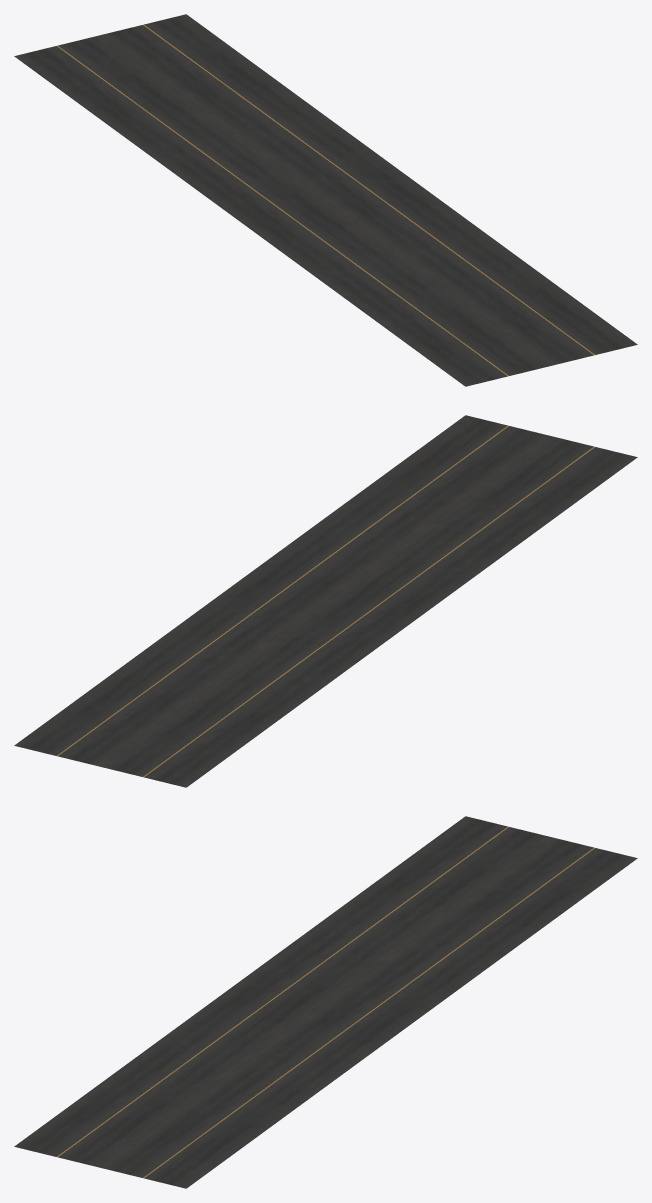
The model's file is Road.FBX.
3 renders of one model, top to bottom at view 1: azimuth 30°, elevation 25°; view 2: azimuth 150°, elevation 25°; view 3: azimuth 330°, elevation 25°, orthographic.
Parts seen in each view (by area): view 1: Road; view 2: Road; view 3: Road.
Part boxes in pixels (<box>): Road: <box>14,14,637,386</box>; Road: <box>14,415,637,787</box>; Road: <box>14,816,637,1188</box>.
Bounding box in the file's own units: 92.82 × 4.11e-05 × 421.
